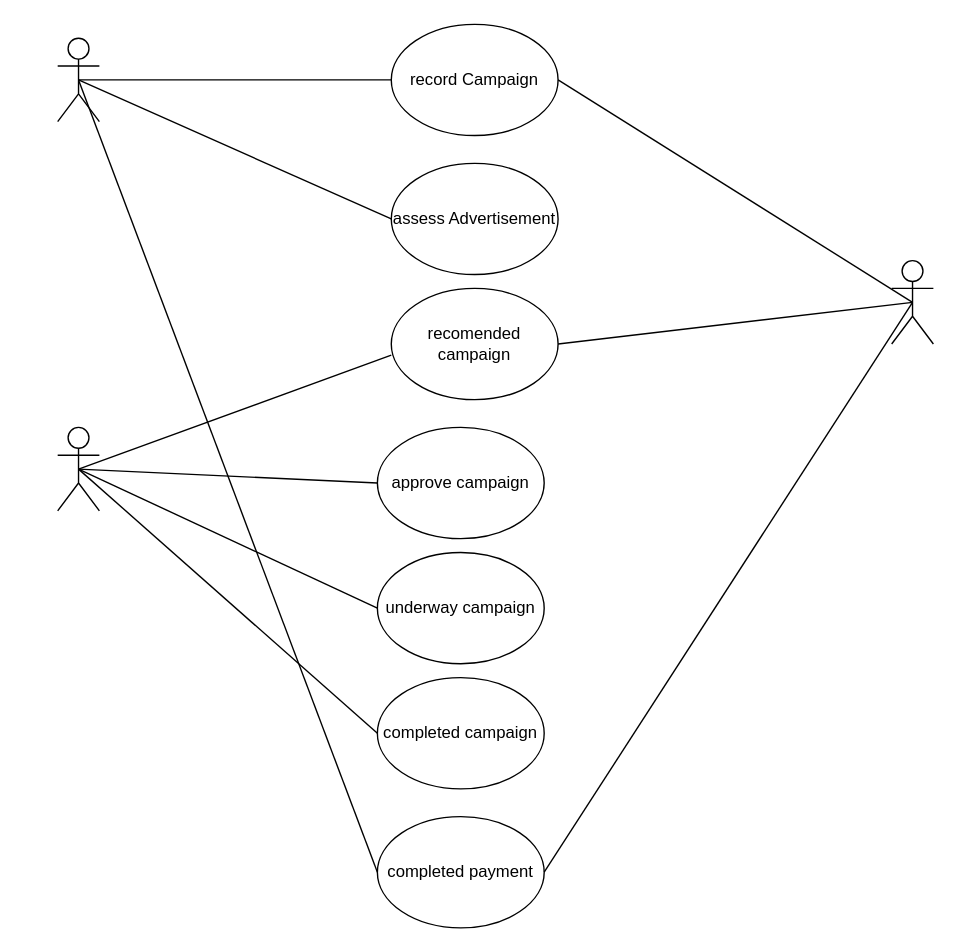
Image size: 976x952. Some labels were removed from this diagram. The centre of each missing label's shape, as x and y in pixels:
Admin Staff: the point at 77,79
Customers: the point at 911,301
Technical Staff: the point at 77,468
